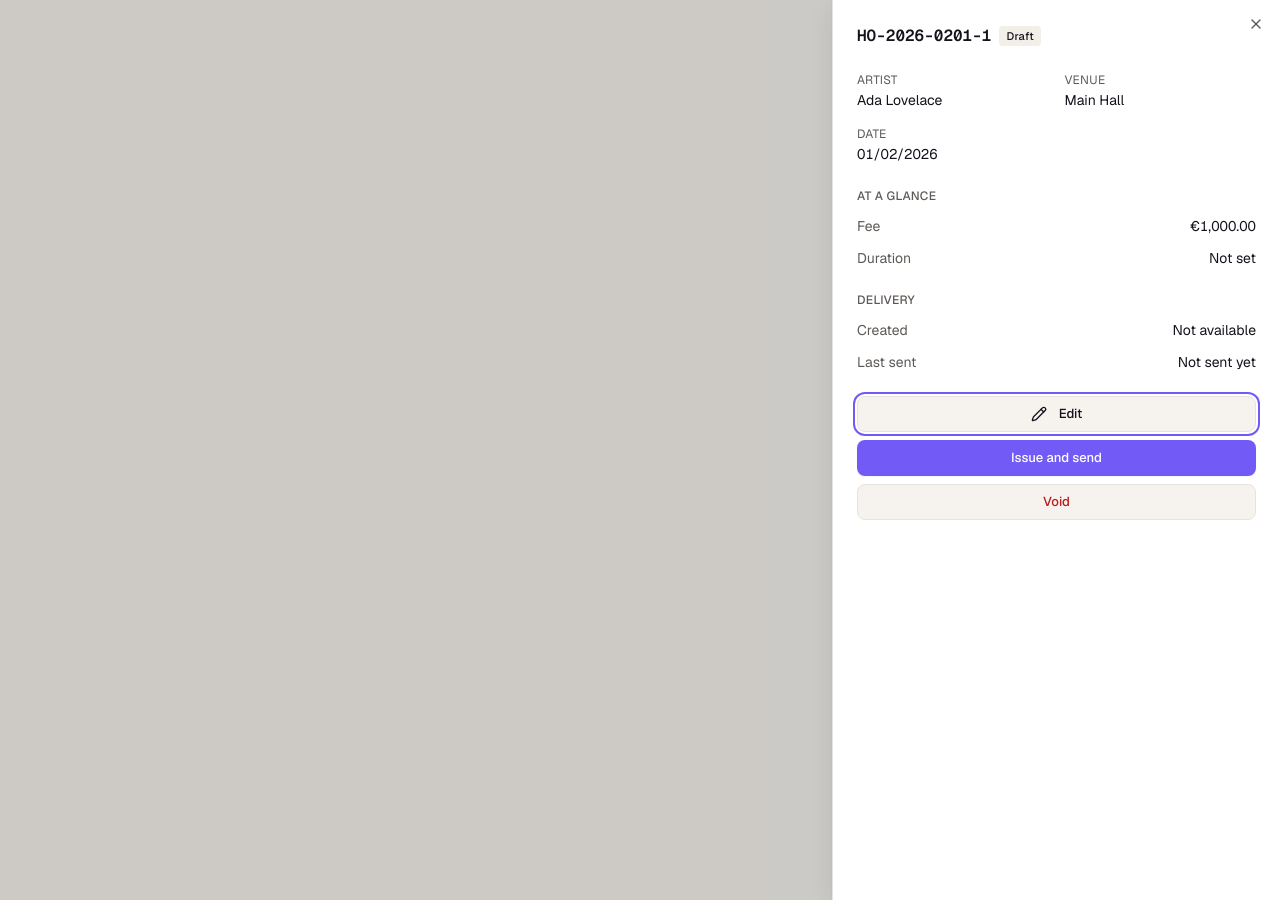
Test: OrderSlideOver void dialog copy › points to the redraft path instead of reading as a dead end
Click the button "Void": click(1056, 502) [857, 484, 1256, 520]
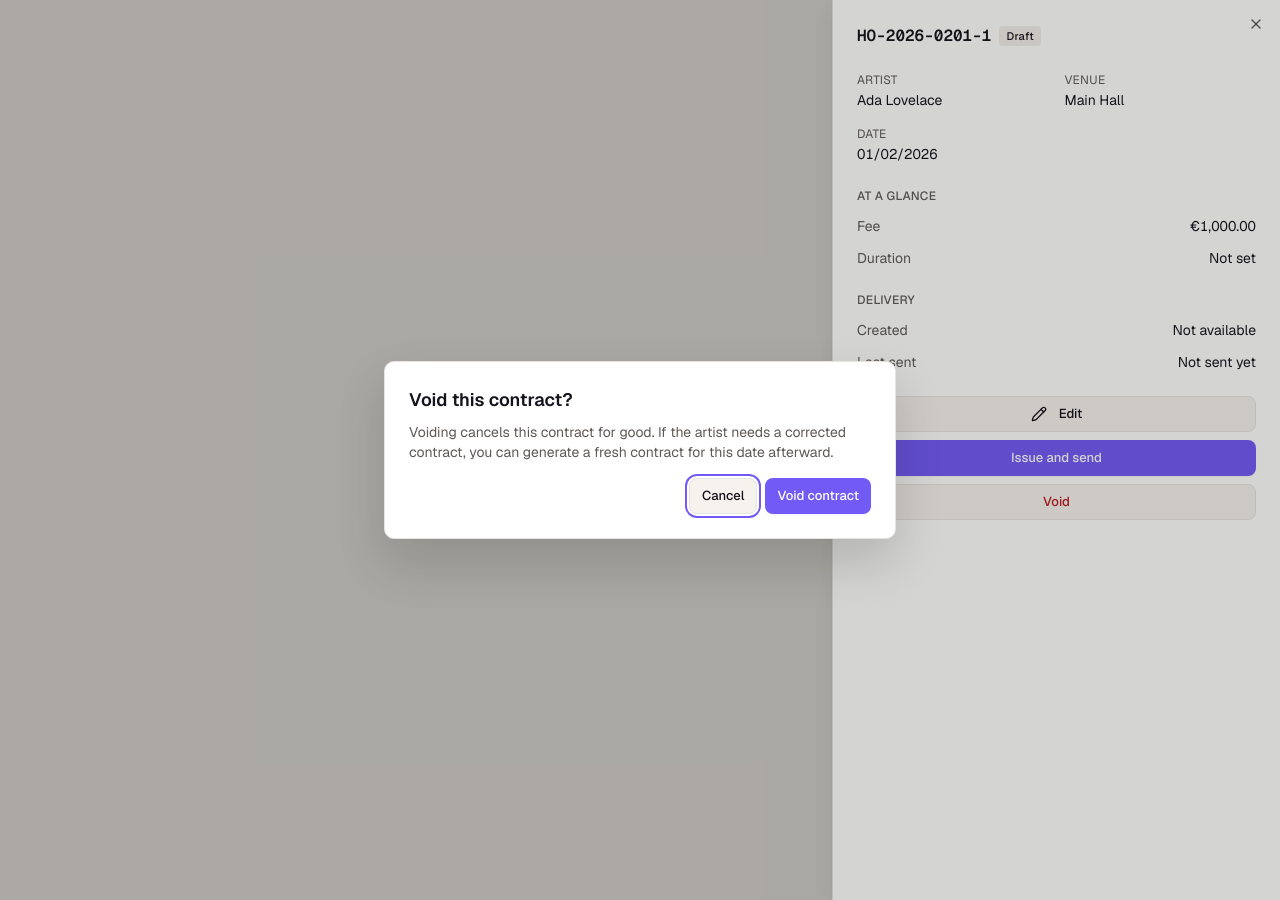
Result: the heading "Void this contract?" is shown at [409, 388, 573, 411]
Result: the text "Voiding cancels this contract for good. If the artist needs a corrected contract, you can generate a fresh contract for " is shown at [409, 423, 846, 461]
Result: the button "Void contract" is shown at [765, 478, 871, 514]
